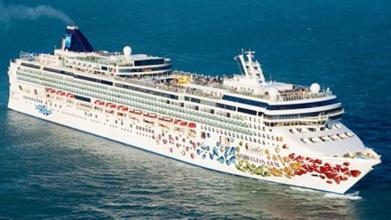youlun: (4, 21, 384, 196)
